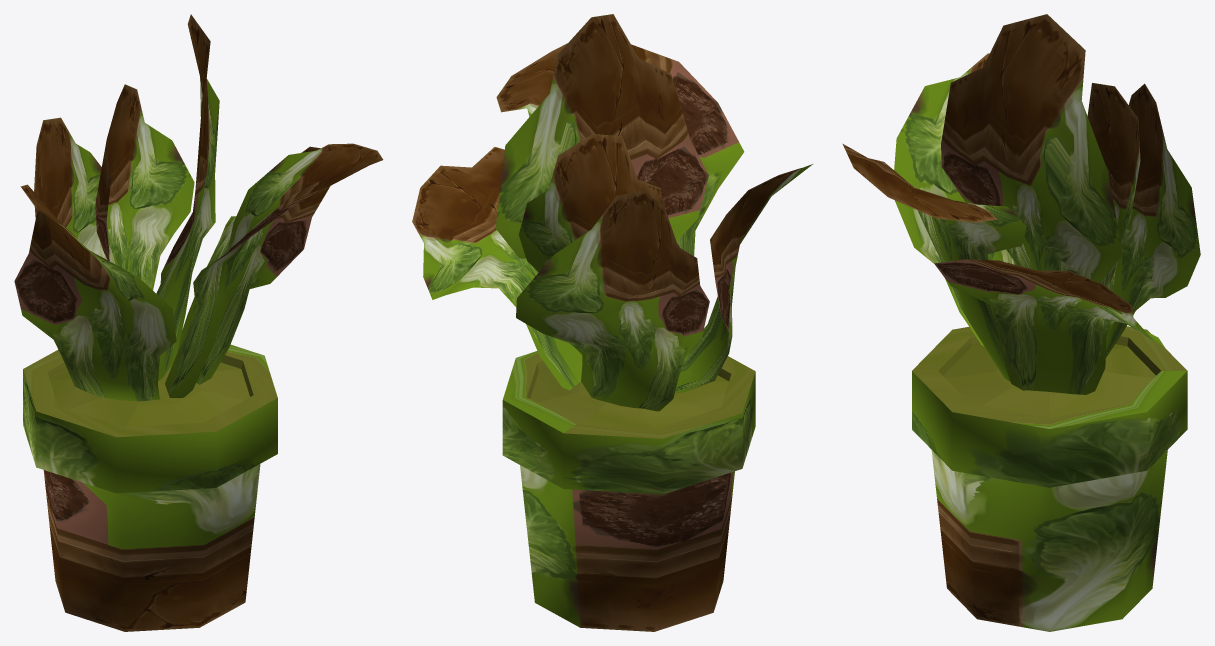
Rendered from plant.FBX.
3 renders of one model, left to right at view 1: azimuth 30°, elevation 25°; view 2: azimuth 150°, elevation 25°; view 3: azimuth 270°, elevation 25°, orthographic. The views are drawn at different scales.
Parts seen in each view (by area): view 1: plant; view 2: plant; view 3: plant.
Boxes of the visible parts, x1,y1,x2,y2 form: plant: [14, 14, 383, 631]; plant: [412, 14, 812, 631]; plant: [842, 14, 1200, 631].
Bounding box in the file's own units: 1.21 × 1.99 × 1.09.
